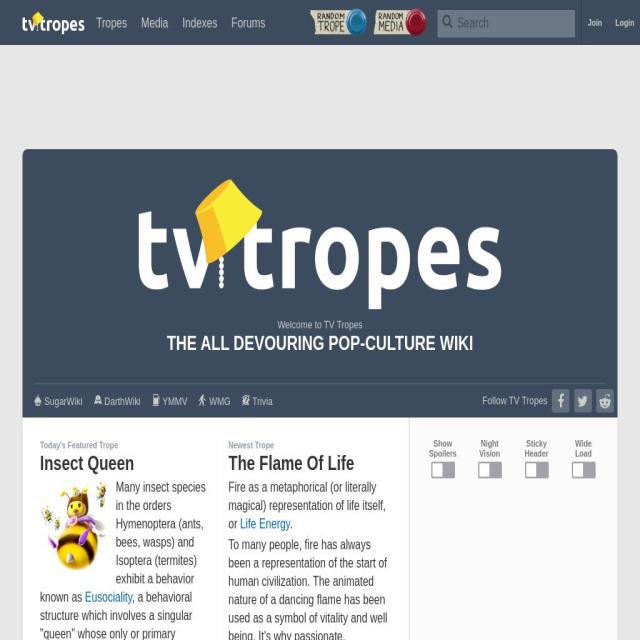button: (609, 0, 640, 45), (582, 0, 608, 45), (552, 389, 570, 413), (574, 389, 592, 413), (596, 389, 614, 413)
field: (438, 10, 576, 38), (439, 12, 457, 28)
heading: (34, 334, 606, 354), (228, 452, 354, 474), (40, 452, 134, 474)
image: (139, 179, 501, 309), (40, 482, 107, 572), (23, 0, 85, 45), (309, 7, 357, 36), (369, 7, 417, 36), (477, 462, 502, 478), (524, 462, 549, 478), (571, 462, 596, 478), (431, 462, 455, 478)
link: (240, 517, 290, 531), (85, 590, 133, 604), (182, 16, 217, 30), (231, 16, 266, 30), (96, 16, 127, 30), (141, 16, 168, 30)
text: (0, 59, 640, 134), (419, 504, 607, 640), (40, 480, 206, 604), (228, 536, 394, 640), (228, 480, 386, 531), (40, 590, 192, 640), (34, 319, 606, 330), (482, 384, 548, 418), (40, 440, 118, 450), (429, 438, 457, 458), (524, 438, 549, 458), (42, 395, 82, 407), (101, 395, 141, 407), (228, 440, 274, 450), (478, 438, 501, 458), (575, 438, 593, 458), (160, 395, 188, 407), (206, 395, 231, 407), (250, 395, 273, 407), (289, 517, 293, 531)
